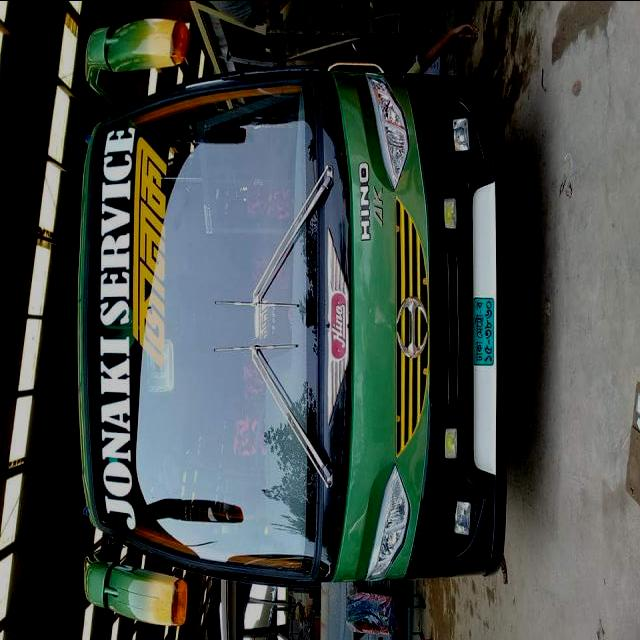bus: (75, 16, 512, 628)
